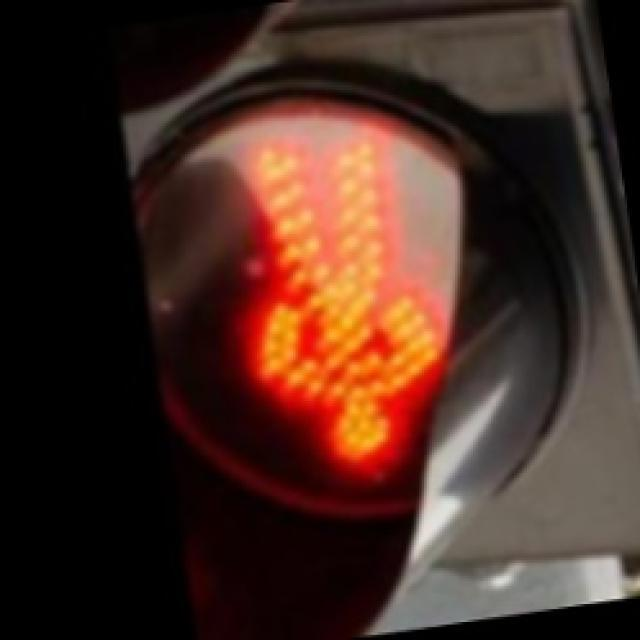red-crossing: (154, 85, 481, 548)
